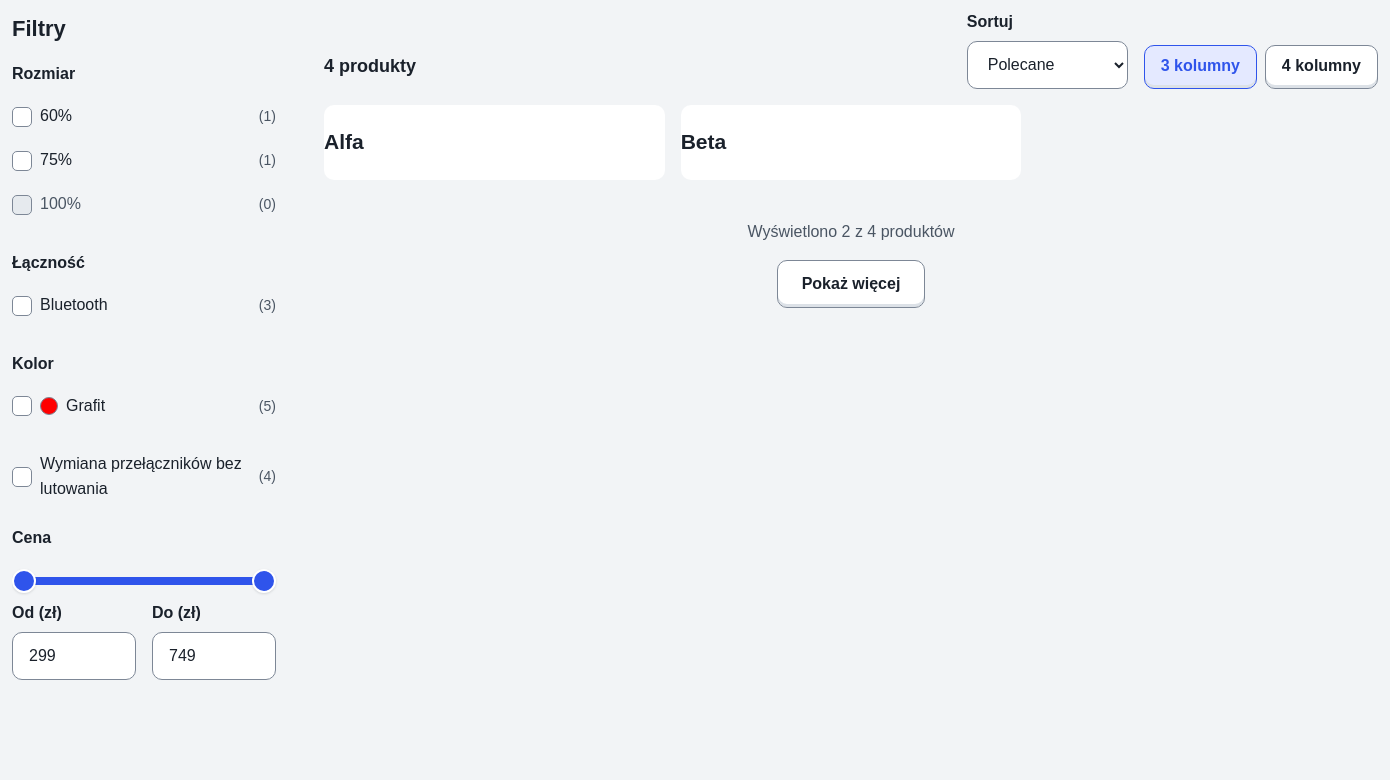
ListingShell › 'Pokaz wiecej': dopisuje karty, fokus na pierwszym nowym, adres dostaje strona=2 (F-026)
Expected: the text "Wyświetlono 2 z 4 produktów" is shown, [748, 220, 955, 244]
Click the button "Pokaż więcej".
click(851, 284)  # box [777, 260, 925, 308]
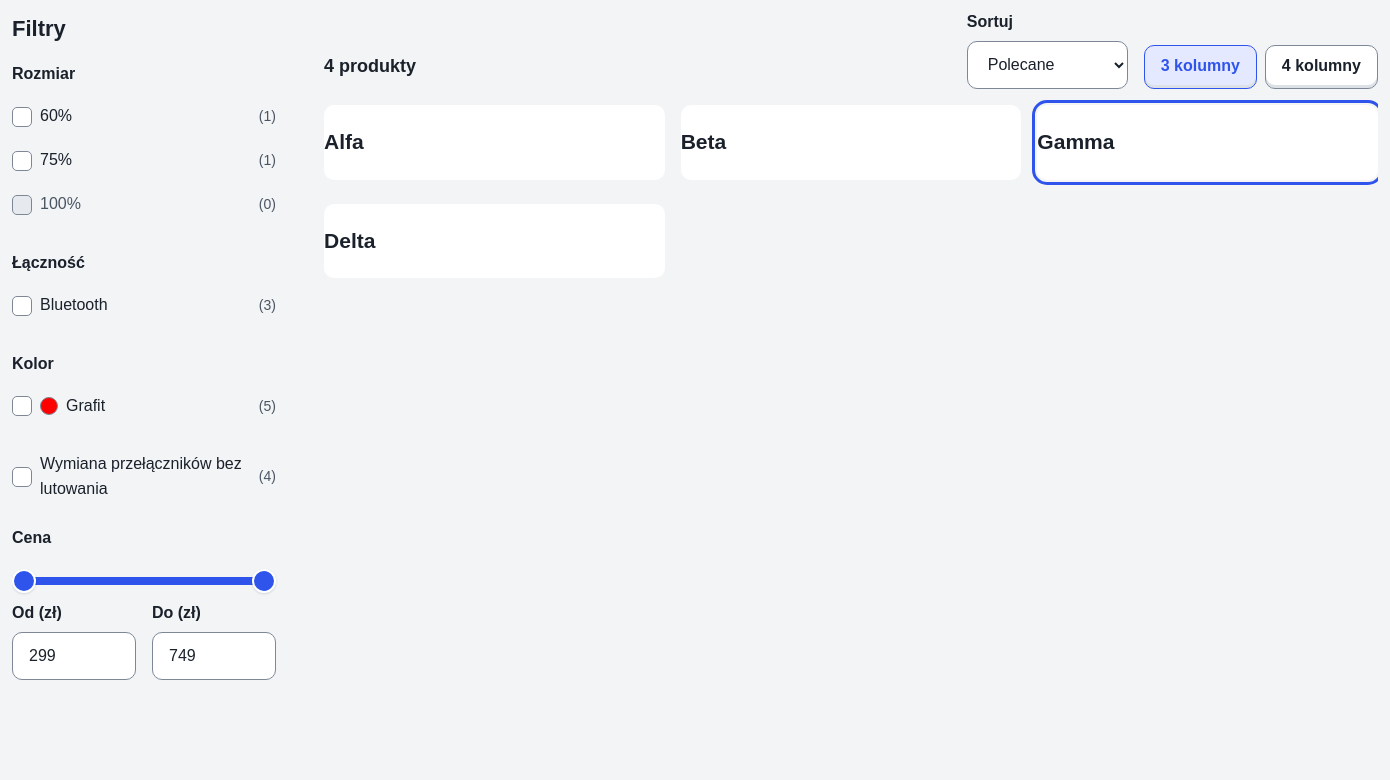
Now the link "Delta" is shown, box [324, 229, 376, 252]
Now the button "Pokaż więcej" is gone
